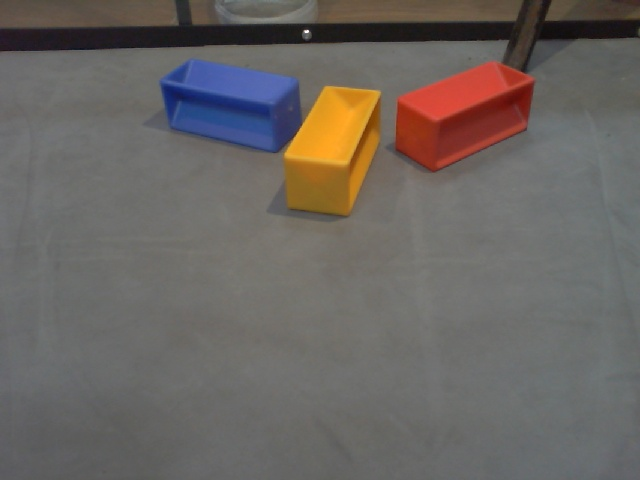BlueSample: (159, 54, 304, 158)
RedSample: (389, 61, 536, 174)
YellowSample: (282, 80, 384, 222)
